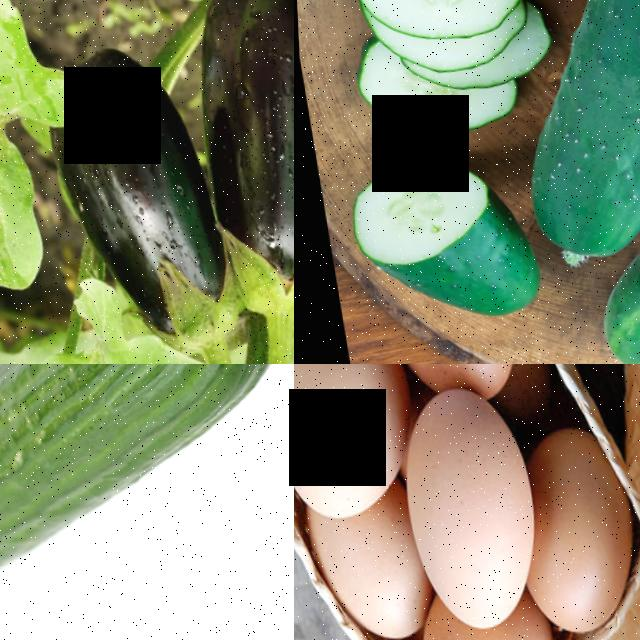cucumber: (0, 364, 294, 640), (477, 0, 640, 277), (333, 138, 542, 336)
egg_: (386, 374, 549, 638), (518, 413, 640, 634), (294, 364, 411, 528), (299, 493, 427, 640), (409, 603, 561, 640)
eggplant: (39, 32, 236, 362), (175, 0, 294, 285)
